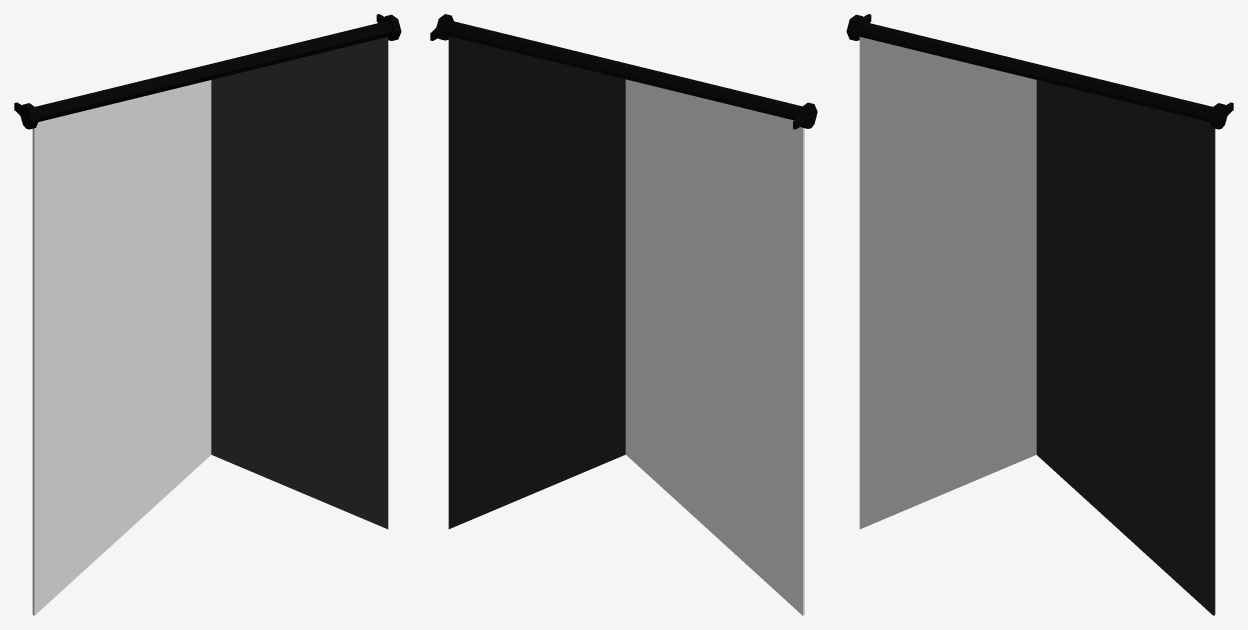
The model's file is Banner_01.fbx.
3 views of the same model, side by side, from view 1: azimuth 30°, elevation 25°; view 2: azimuth 150°, elevation 25°; view 3: azimuth 330°, elevation 25° (orthographic).
Parts seen in each view (by area): view 1: Banner_01; view 2: Banner_01; view 3: Banner_01.
Part boxes in pixels (<box>): Banner_01: <box>14,14,401,615</box>; Banner_01: <box>430,14,817,615</box>; Banner_01: <box>846,14,1233,615</box>.
Bounding box in the file's own units: 115 × 151 × 10.81.
